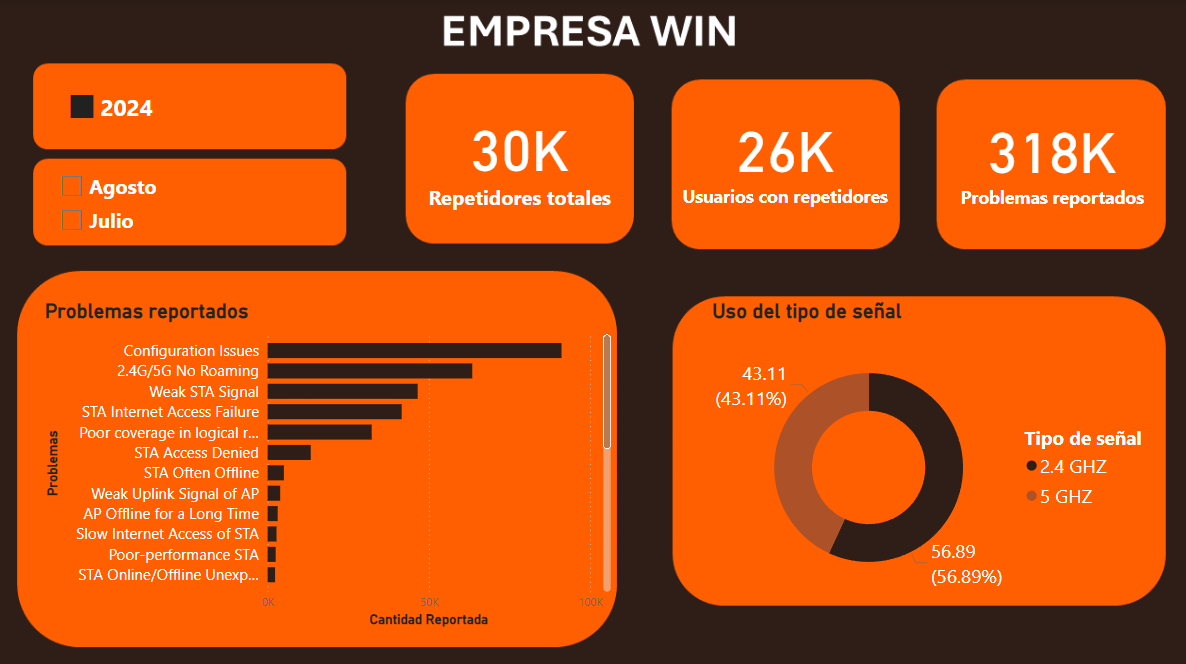

Layout of this report page (visuals, bound fields, positions):
{"tool":"powerbi","page":{"name":"Issues","canvas":[1280,720],"ordinal":0},"visuals":[{"type":"barChart","title":"Problemas reportados","fields":{"Category":["DimIssueType.IssueName"],"Y":["Sum(FactIssue.Quantity)"]},"box":[48,318,610,352],"z":0},{"type":"card","title":"Problemas detectados","fields":{"Values":["Sum(FactIssue.Quantity)"]},"box":[1002.9,88.6,237.1,157.1],"z":1000},{"type":"slicer","fields":{"Values":["DimCalendar.SpanishMonthName"]},"box":[57.8,174.4,295.6,93.3],"z":2000},{"type":"slicer","fields":{"Values":["DimCalendar.CalendarYear"]},"box":[66.7,88.9,197.8,60],"z":3000},{"type":"card","fields":{"Values":["Sum(FactRepeaterUsage.Quantity)"]},"box":[437.1,95.7,237.1,142.9],"z":4000},{"type":"card","fields":{"Values":["Sum(FactUserRepeaterCount.Quantity)"]},"box":[718.6,78.6,237.1,177.1],"z":5000},{"type":"donutChart","title":"Uso del tipo de señal","fields":{"Category":["DimSignalType.SignalName"],"Y":["Sum(FactSignalUse.Percentage)"]},"box":[756,318,484,332],"z":6000}]}

Visuals, with their boxes in screenshot pixels (x1, y1, x2, y2), scaled from the page's 1280x720 canvas onto the 1186x664 screenshot:
"Problemas reportados" barChart: x1=44, y1=293, x2=610, y2=618
"Problemas detectados" card: x1=929, y1=82, x2=1149, y2=227
slicer - DimCalendar.SpanishMonthName: x1=54, y1=161, x2=327, y2=247
slicer - DimCalendar.CalendarYear: x1=62, y1=82, x2=245, y2=137
card - Sum(FactRepeaterUsage.Quantity): x1=405, y1=88, x2=625, y2=220
card - Sum(FactUserRepeaterCount.Quantity): x1=666, y1=72, x2=886, y2=236
"Uso del tipo de señal" donutChart: x1=700, y1=293, x2=1149, y2=599
